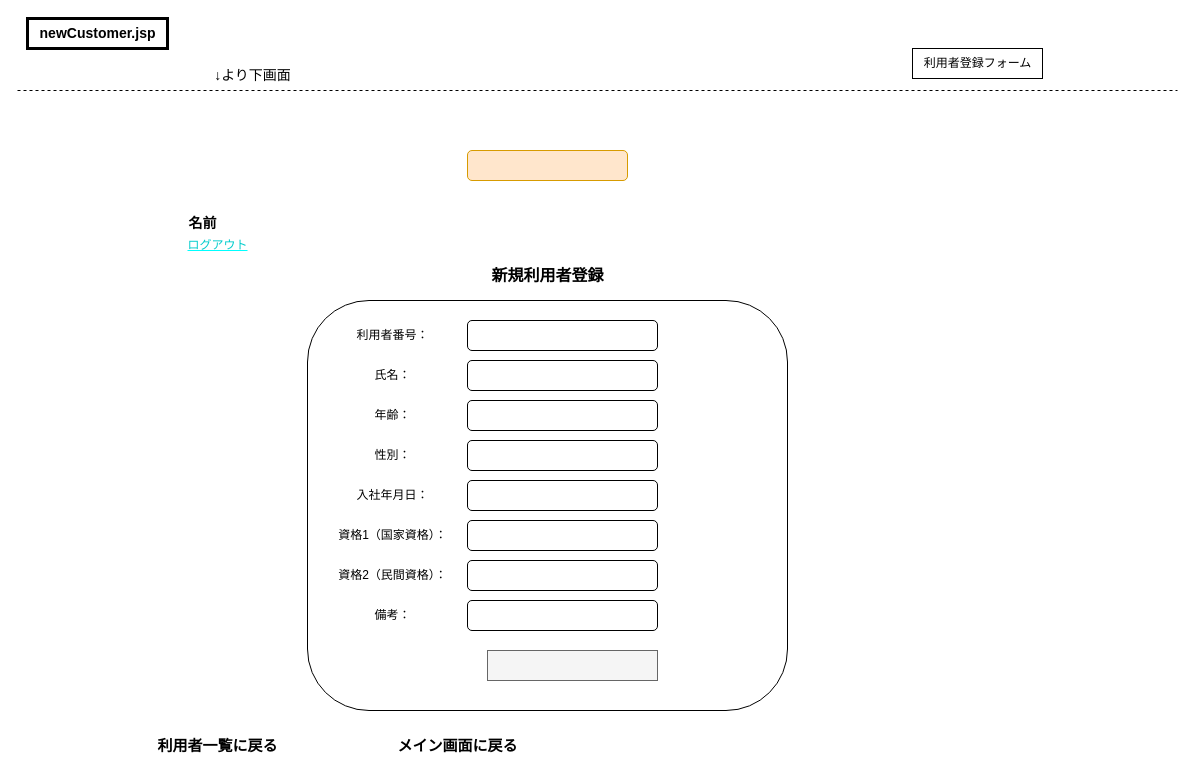
Image size: 1196x778. Some labels were removed from this diagram. The box of each missing label's shape, as (x1, y1, x2, y2) in pixels:
人事評価システム（仮）: (466, 150, 628, 180)
新規利用者登録（ボタン）: (486, 650, 658, 680)
